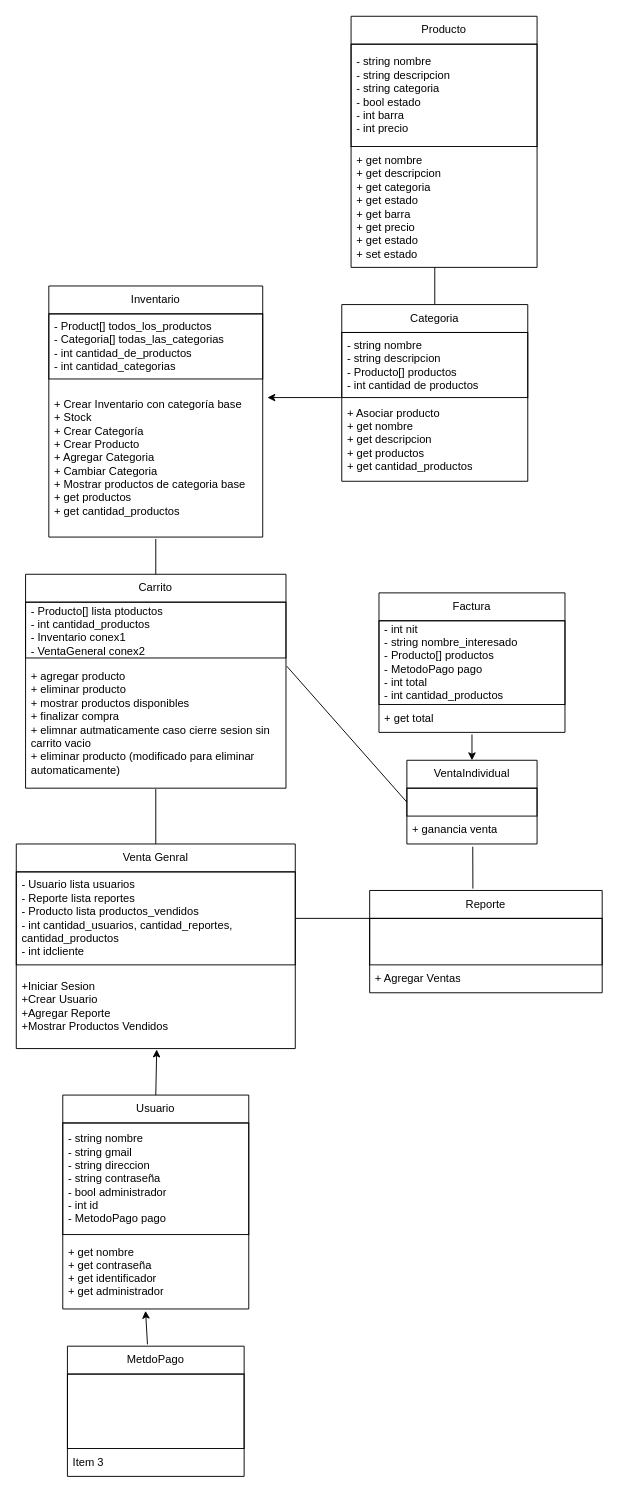
This 618x1493 diagram has some shape labels left out. The shapes that lost their labels are listed below. From the top down, each one's centre as x and y in pixels, then its label:
the point at 471,801: - Factura factura - Usuario usuario
the point at 485,941: - Venta Individual lista ventas - int ganacias, cantidad de ventas - Fecha
the point at 155,1410: - string entidad_bancaria - bool qr -bool trajeta_credito
